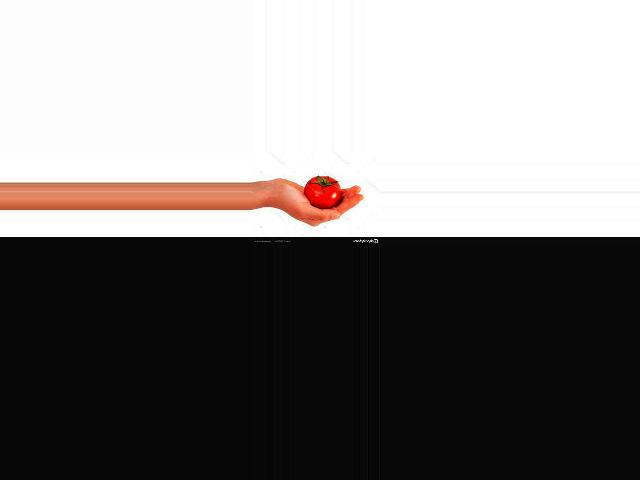tomato: (303, 176, 339, 208)
